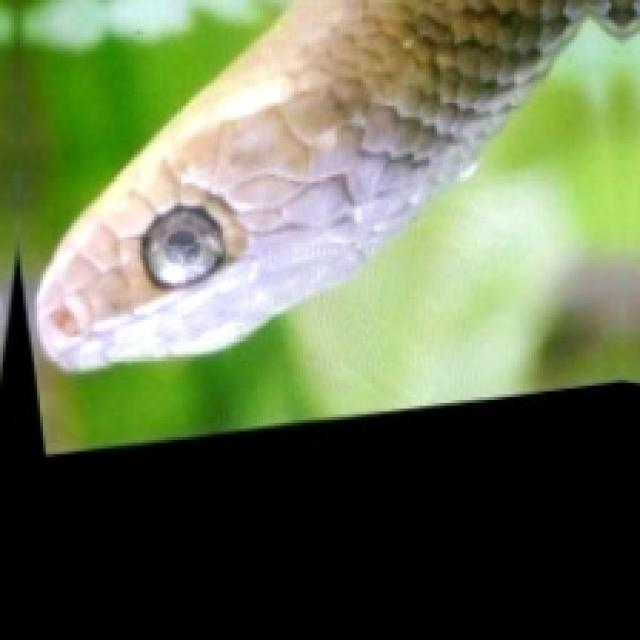smooth-scaled mountain rat snake: (37, 0, 637, 369)
